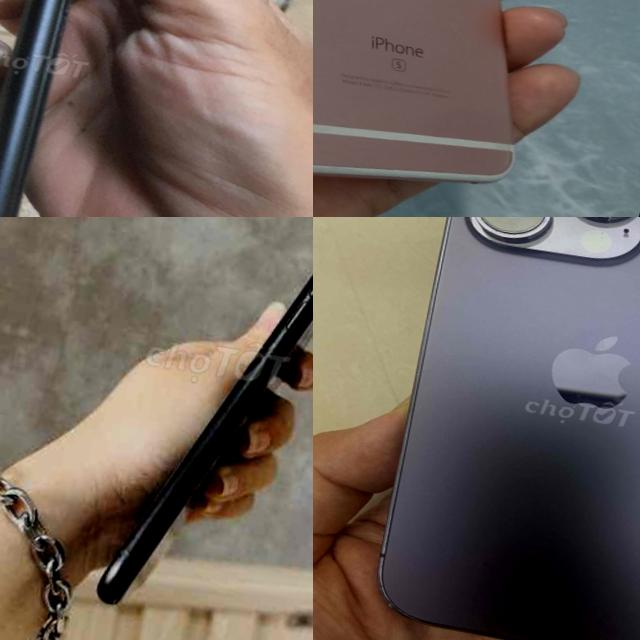gen_14: (371, 217, 640, 640)
gen_6: (313, 0, 632, 217)
gen_7_8: (0, 0, 124, 217)
gen_x_xs: (91, 217, 313, 640)
